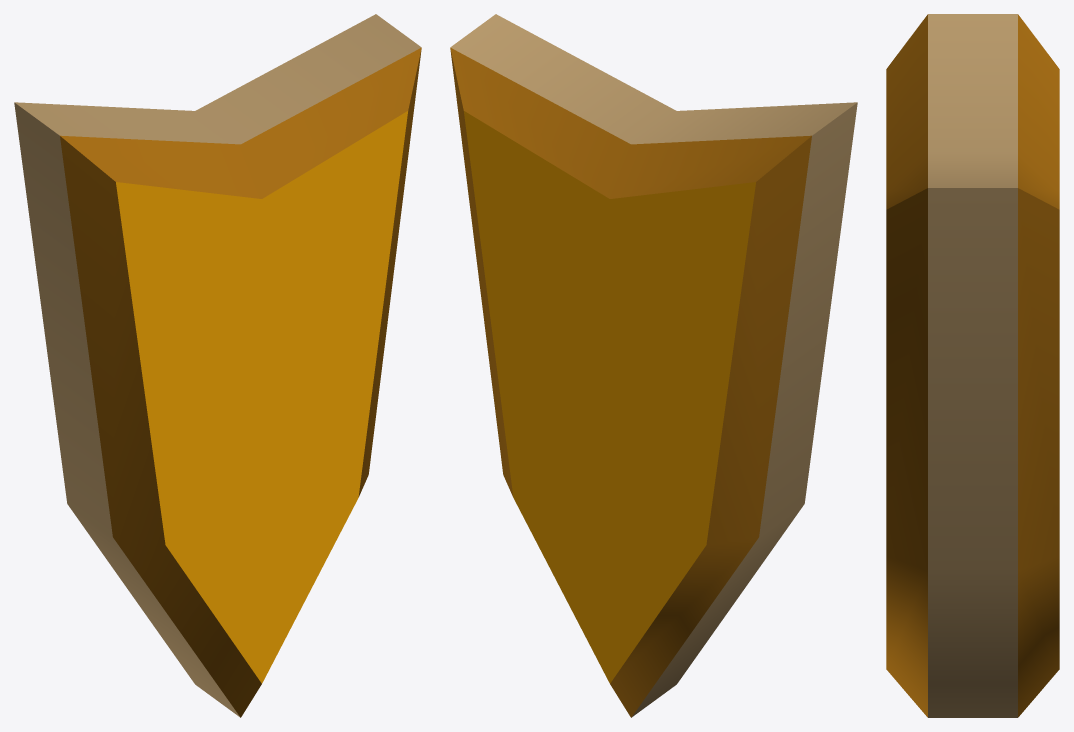
Rendered from arrow.fbx.
3 views of the same model, side by side, from view 1: azimuth 30°, elevation 25°; view 2: azimuth 150°, elevation 25°; view 3: azimuth 270°, elevation 25° (orthographic).
Parts seen in each view (by area): view 1: arrow; view 2: arrow; view 3: arrow.
Boxes of the visible parts, x1,y1,x2,y2 form: arrow: (14,14,421,717); arrow: (450,14,857,717); arrow: (886,14,1059,717).
Bounding box in the file's own units: 10.08 × 16.67 × 4.25.
